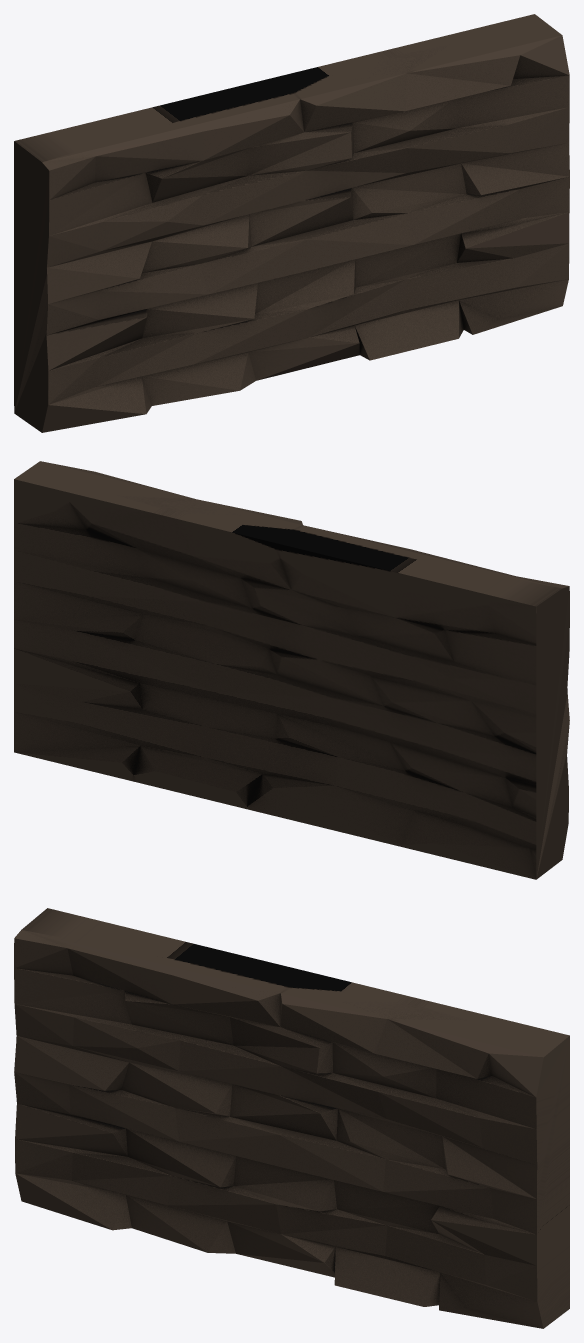
The model's file is Wall Brick.glb.
The picture shows the model from 3 angles, top to bottom: view 1: azimuth 30°, elevation 25°; view 2: azimuth 150°, elevation 25°; view 3: azimuth 330°, elevation 25°; orthographic projection.
Parts seen in each view (by area): view 1: wall_brick; view 2: wall_brick; view 3: wall_brick.
Boxes of the visible parts, x1,y1,x2,y2 form: wall_brick: (14, 14, 569, 432); wall_brick: (14, 461, 569, 879); wall_brick: (14, 908, 569, 1328).
Size of the model in its own units: 6.01 by 3 by 0.7004.
1 material, 1 textured.
